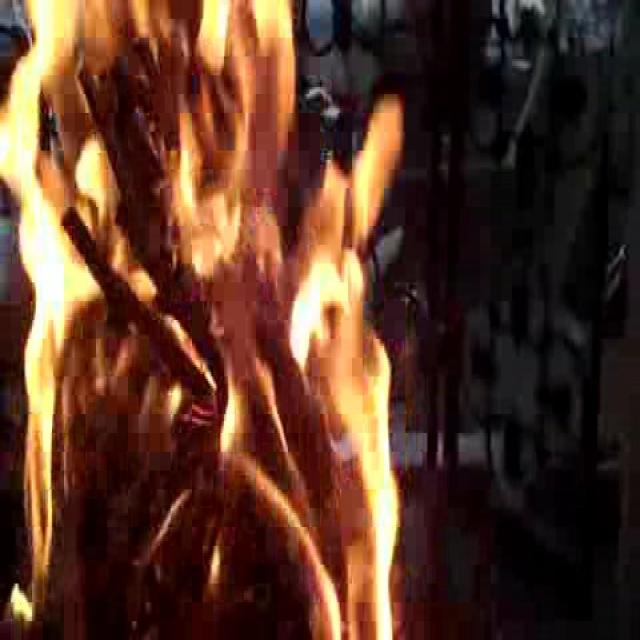fire: (10, 2, 410, 618)
